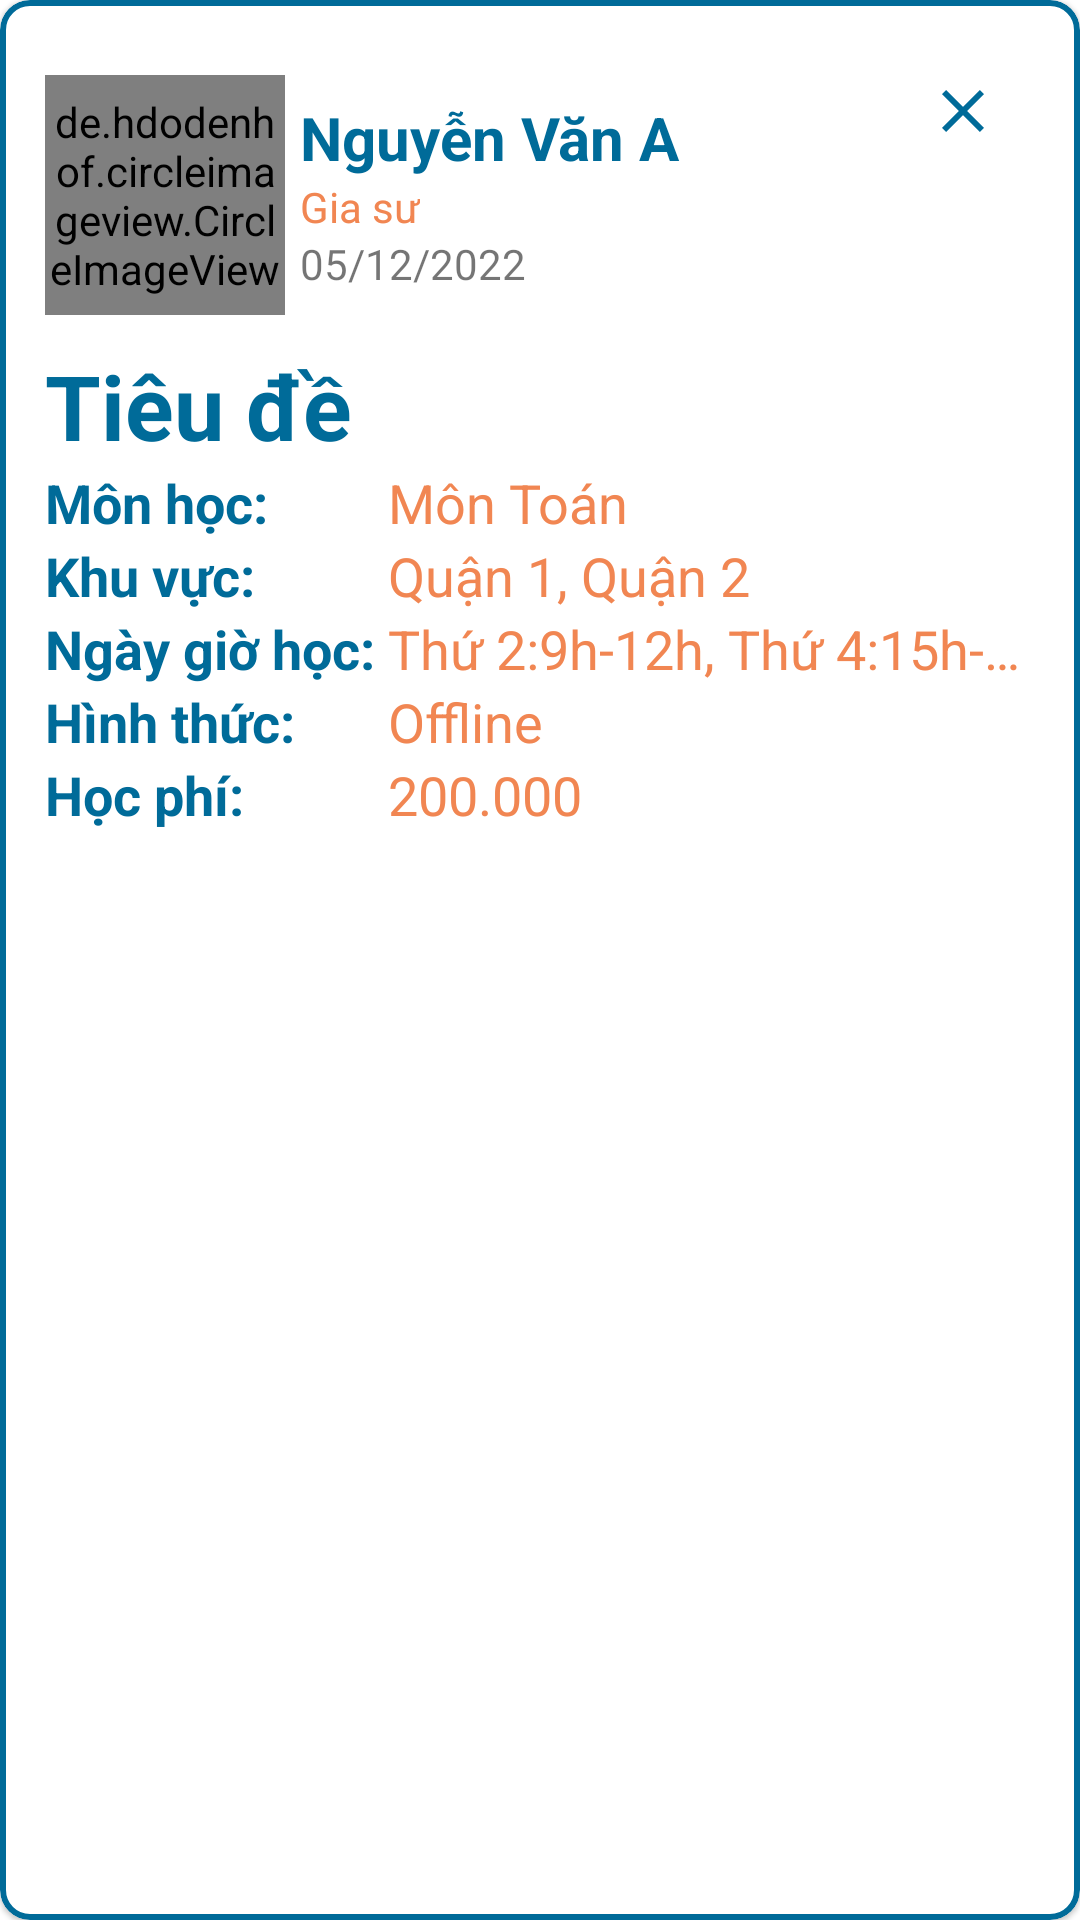

Point at icon controls on the screen. Image size 1080*1920, points as (x=x, y=y).
close: (x=963, y=111)
